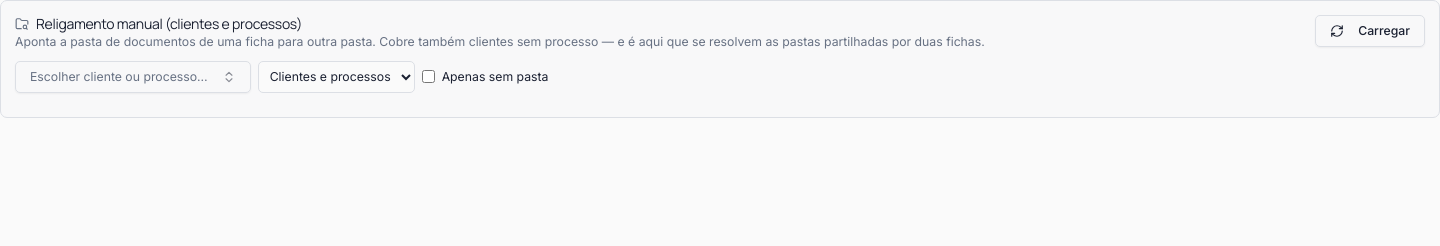
Test case: S3RelinkPanel › guardar só fica activo depois de MUDAR a escolha
Click the button "Carregar".
click(1370, 31)  # box [1315,15,1425,46]
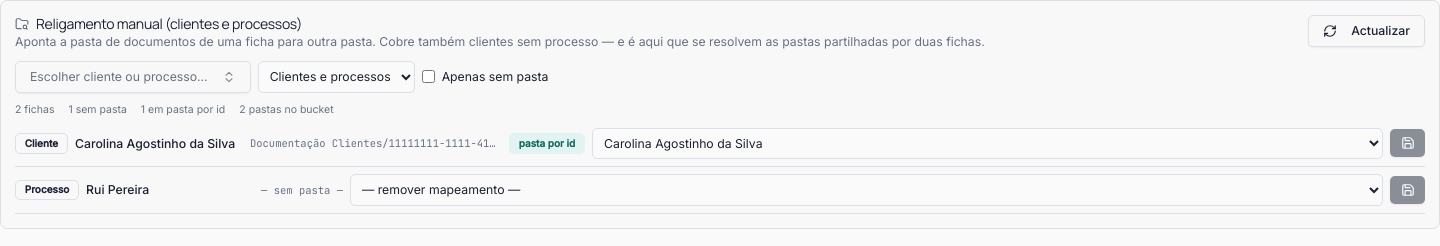
Result: the button named "guardar pasta de rui pereira" in the row of "— sem pasta —" is disabled at [1390,176,1425,204]
Select "Carolina_Silva (2 fichas)" in the dropdown named "Pasta de Rui Pereira" at {"x": 866, "y": 190}, box [350,174,1383,206]
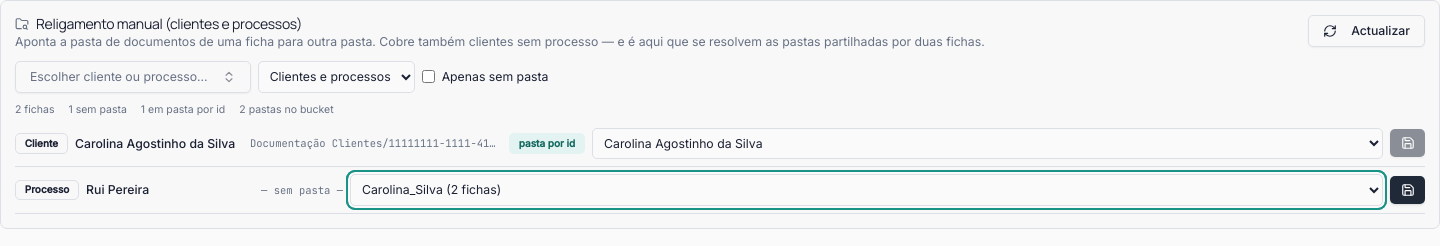
Result: the button named "guardar pasta de rui pereira" in the row of "— sem pasta —" is enabled at [1390,176,1425,204]
